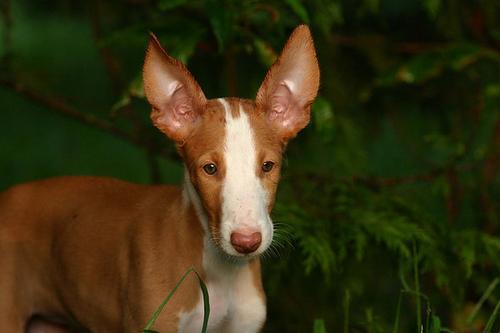Ibizan_hound: (0, 22, 322, 331)
